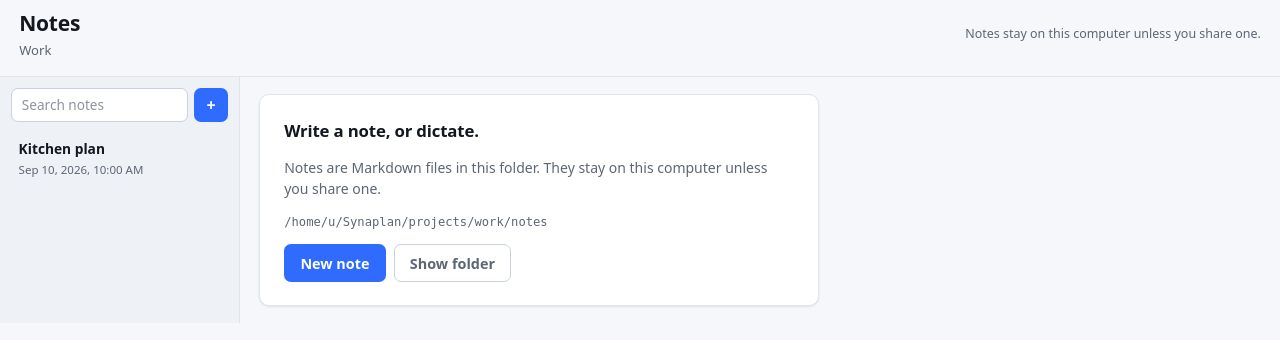
NotesView › offers dictation only once the project has a Dictation model
Click the button with test id "note-kitchen.md": (120, 158) [8,130,231,187]
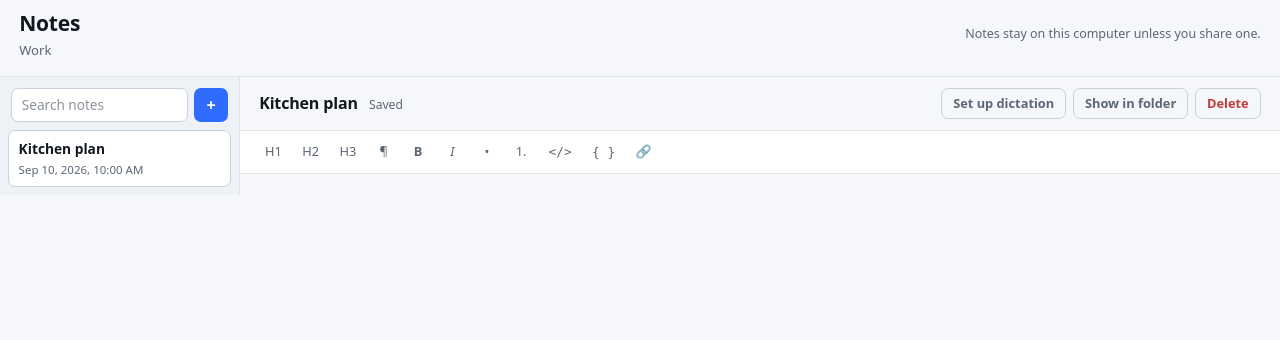
Expected: the button with test id "dictation-need-model" reads "Set up dictation", [941,88,1066,119]
